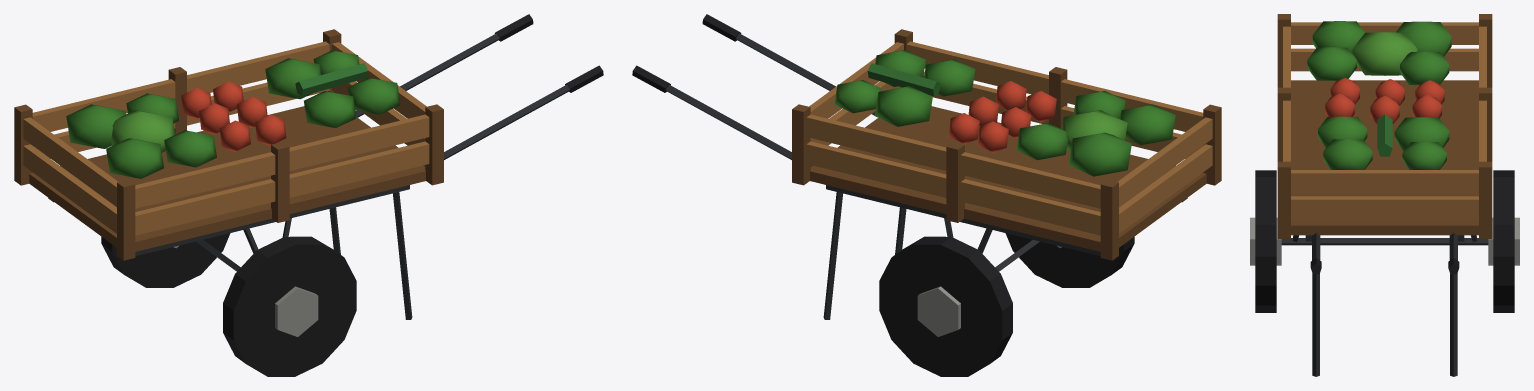
File: market_cart_v01.glb
3 views of the same model, side by side, from view 1: azimuth 30°, elevation 25°; view 2: azimuth 150°, elevation 25°; view 3: azimuth 270°, elevation 25° (orthographic).
Parts seen in each view (by area): view 1: market_cart_v01; view 2: market_cart_v01; view 3: market_cart_v01.
Part boxes in pixels (<box>): market_cart_v01: <box>14,14,603,376</box>; market_cart_v01: <box>632,14,1221,376</box>; market_cart_v01: <box>1250,14,1519,376</box>.
Size of the model in its own units: 2.13 by 0.9725 by 1.02.
Materials: 1 (1 with a texture image).
